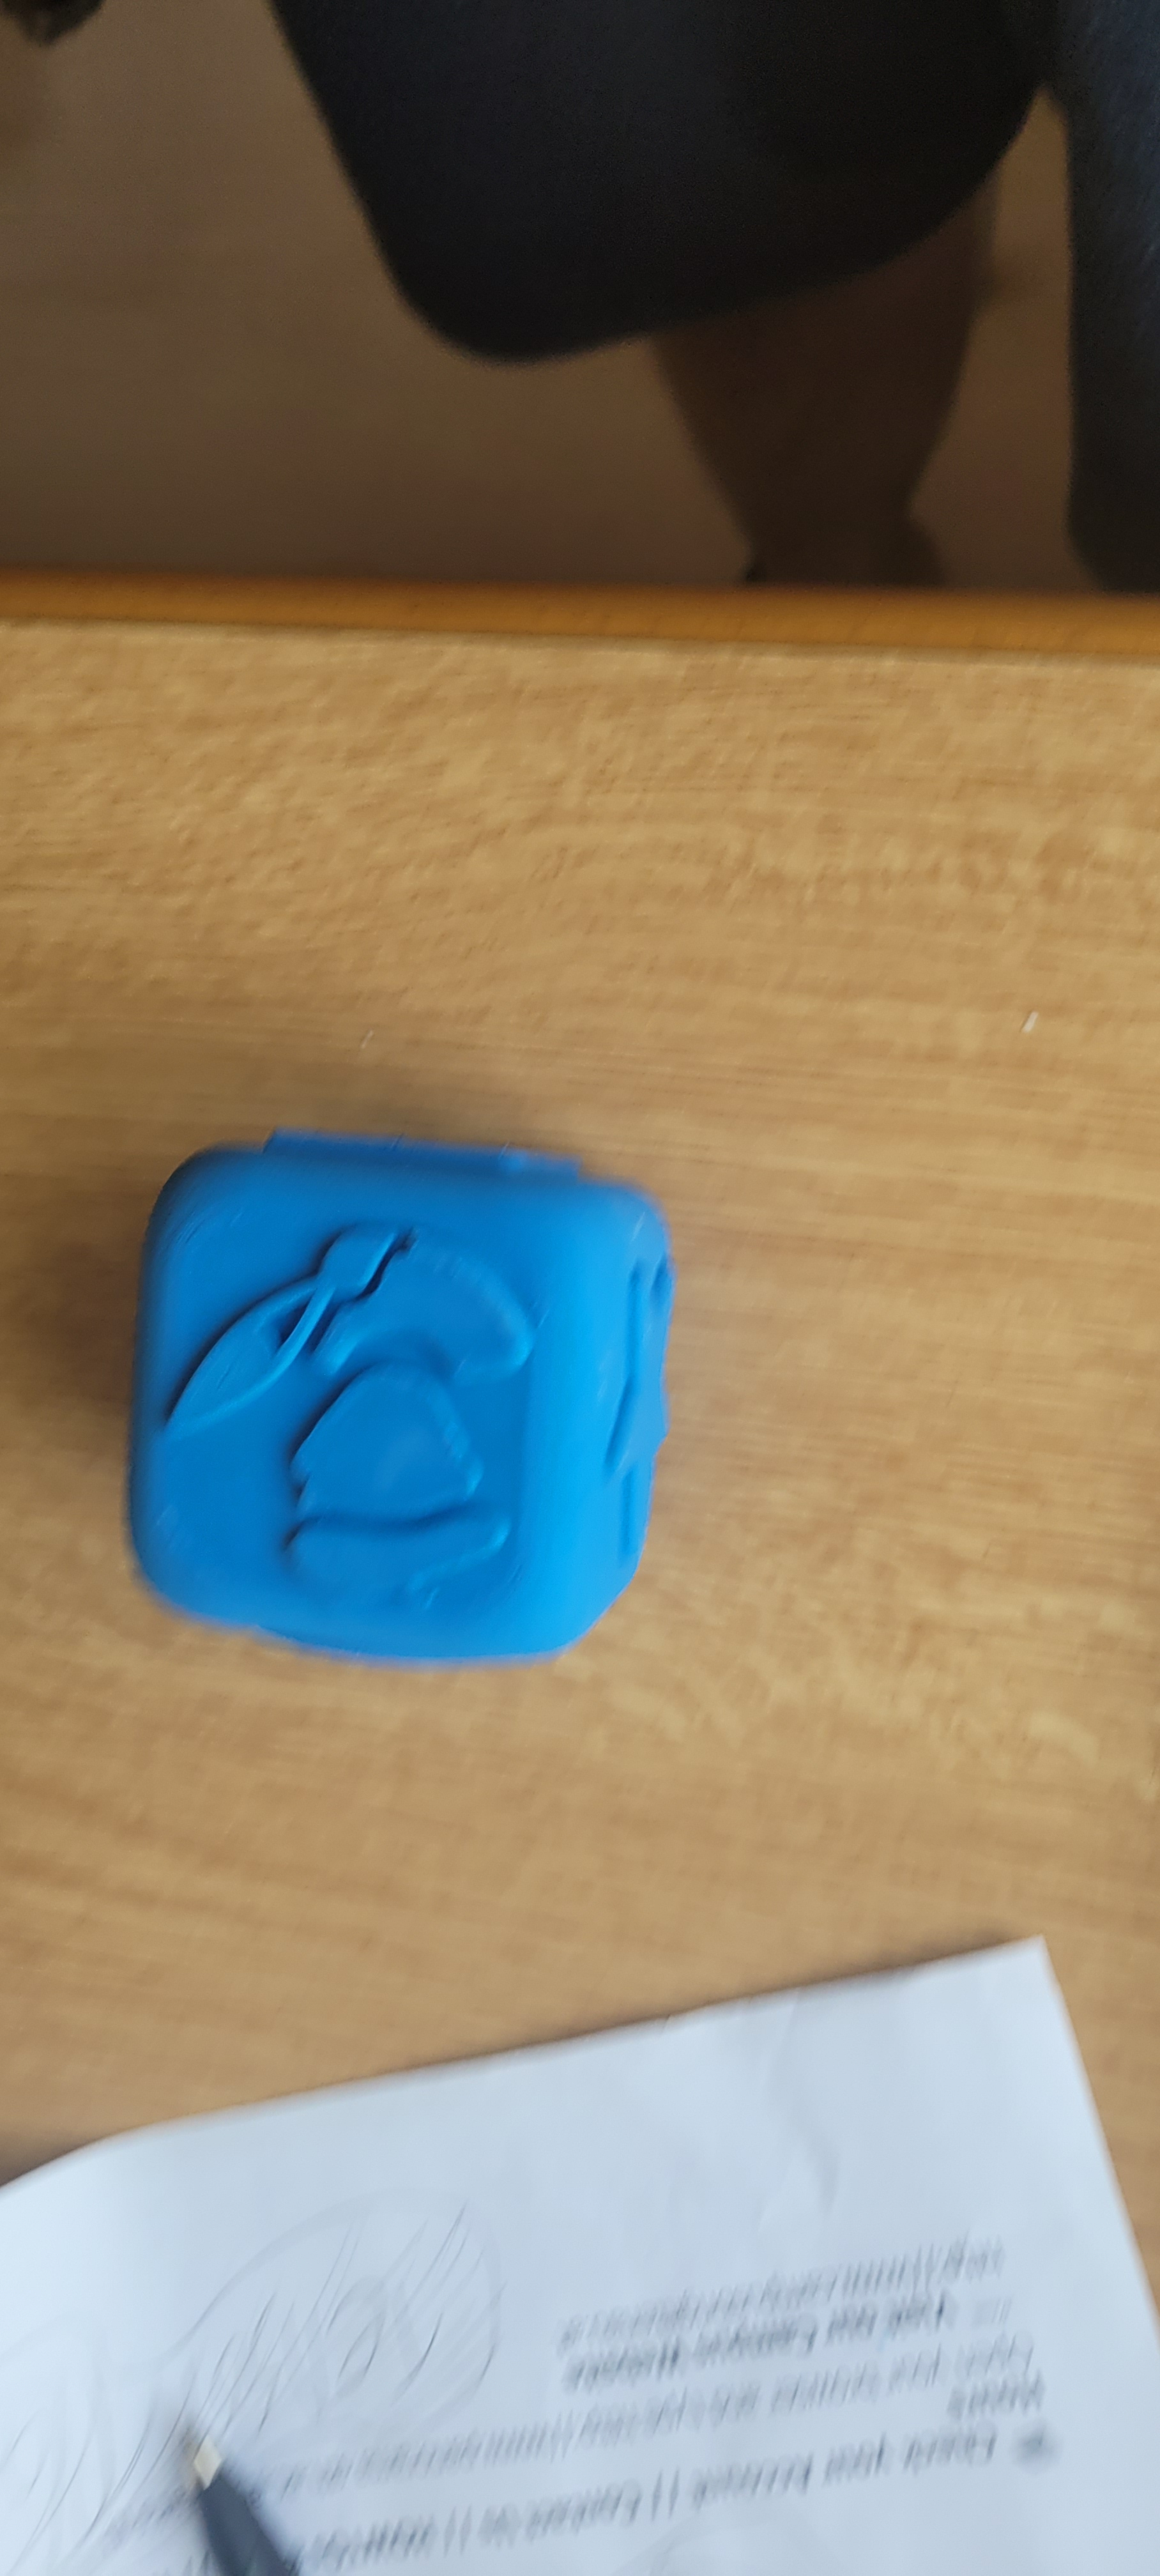Artist_Info: (148, 1106, 659, 1672)
